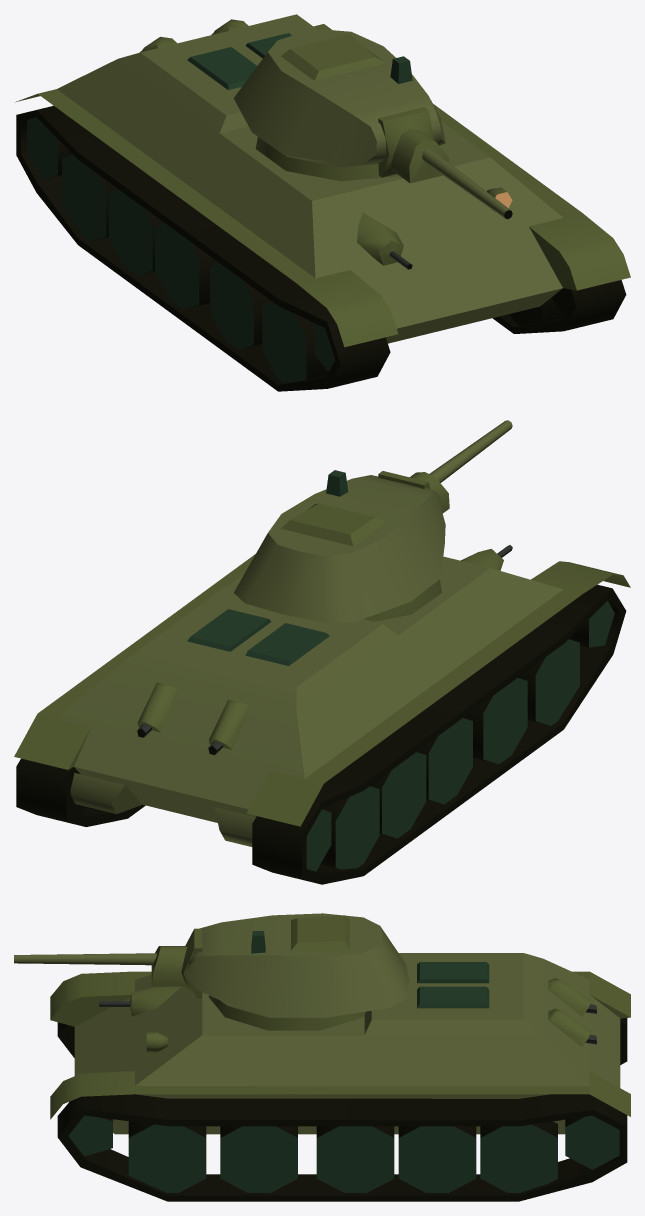
3 views of the same model, one above another, from view 1: azimuth 30°, elevation 25°; view 2: azimuth 150°, elevation 25°; view 3: azimuth 270°, elevation 25° (orthographic). The views are drawn at different scales.
Parts seen in each view (by area): view 1: Hull, Tracks, Turret, Gun; view 2: Hull, Tracks, Turret, Gun; view 3: Hull, Tracks, Turret, Gun.
Part boxes in pixels (x1,y1,x2,y2): Hull: (15,14,630,347); Tracks: (16,105,626,391); Turret: (233,29,445,181); Gun: (378,107,512,219); Hull: (14,545,630,846); Tracks: (16,584,626,884); Turret: (234,470,445,622); Gun: (378,420,512,513); Hull: (50,953,630,1134); Tracks: (57,1018,627,1201); Turret: (188,913,409,1030); Gun: (14,928,202,998).
Bounding box in the file's own units: 234 × 196 × 496.
